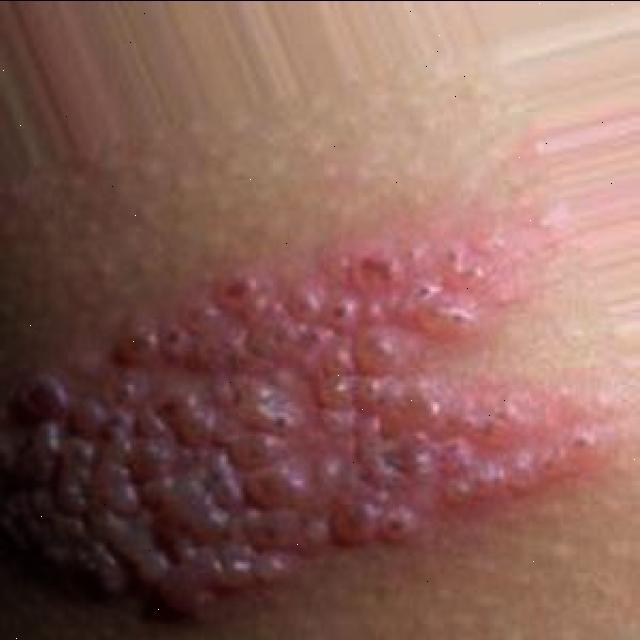Shingles: (0, 238, 607, 622)
